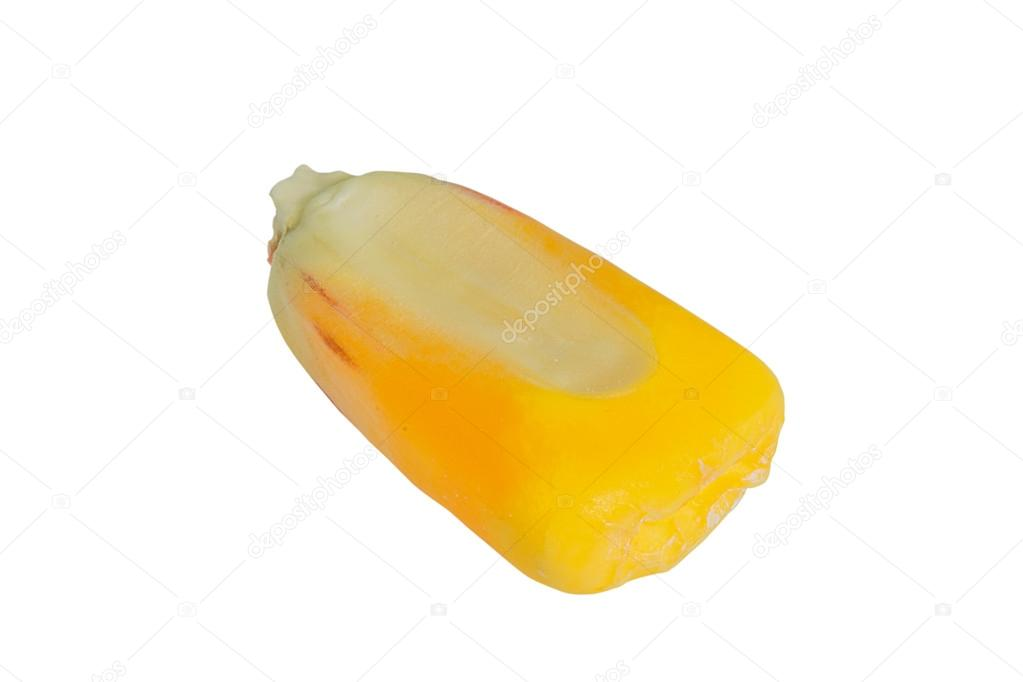corn: (265, 170, 783, 594)
